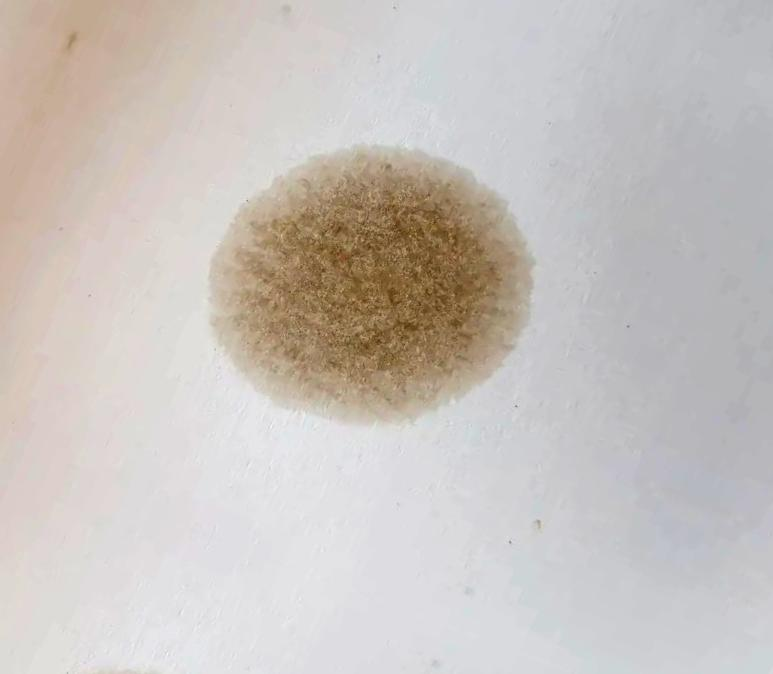stain: (189, 134, 554, 437)
